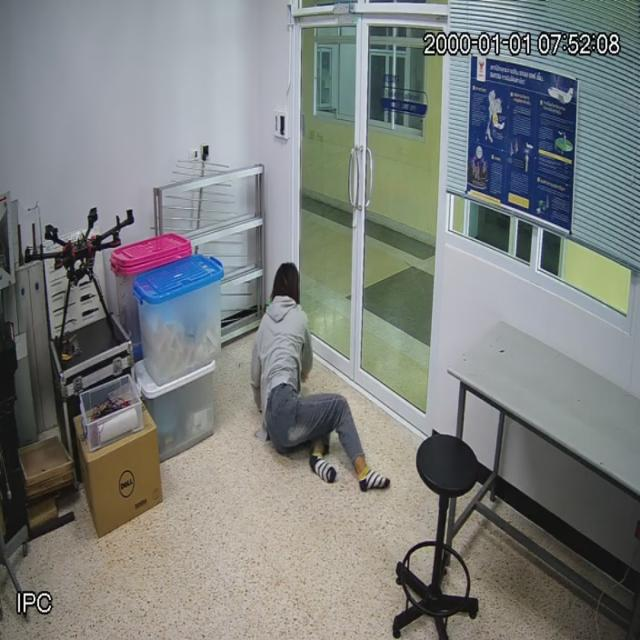fall: (256, 256, 389, 503)
